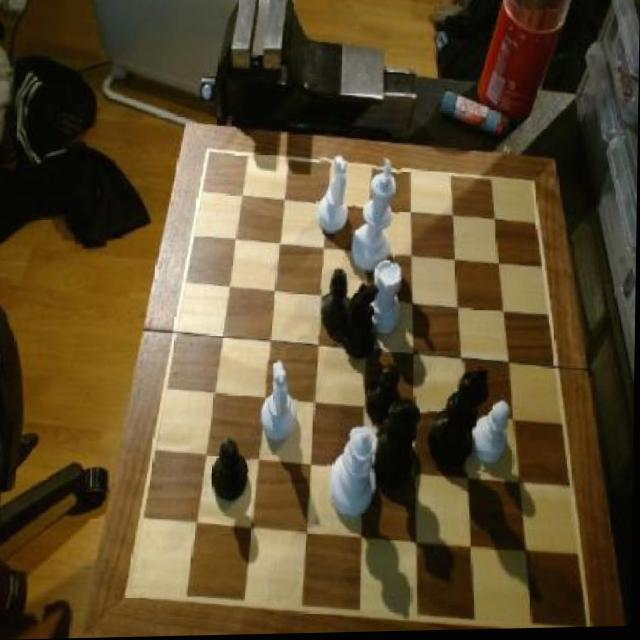black-bishop: (425, 362, 493, 476)
black-king: (341, 281, 383, 361)
black-knight: (210, 435, 252, 511), (365, 365, 407, 430), (319, 269, 352, 337)
black-pawn: (371, 397, 421, 491)
white-bishop: (351, 159, 401, 278)
white-king: (258, 363, 300, 449), (316, 155, 355, 240)
white-knight: (470, 403, 515, 472)
white-pawn: (327, 424, 381, 522)
white-queen: (368, 257, 407, 337)
